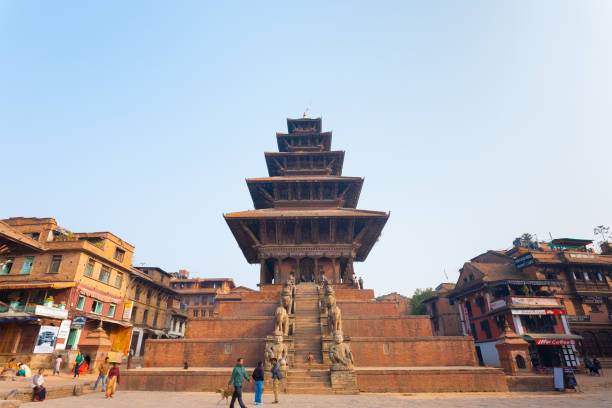nyathapola: (153, 90, 494, 389)
